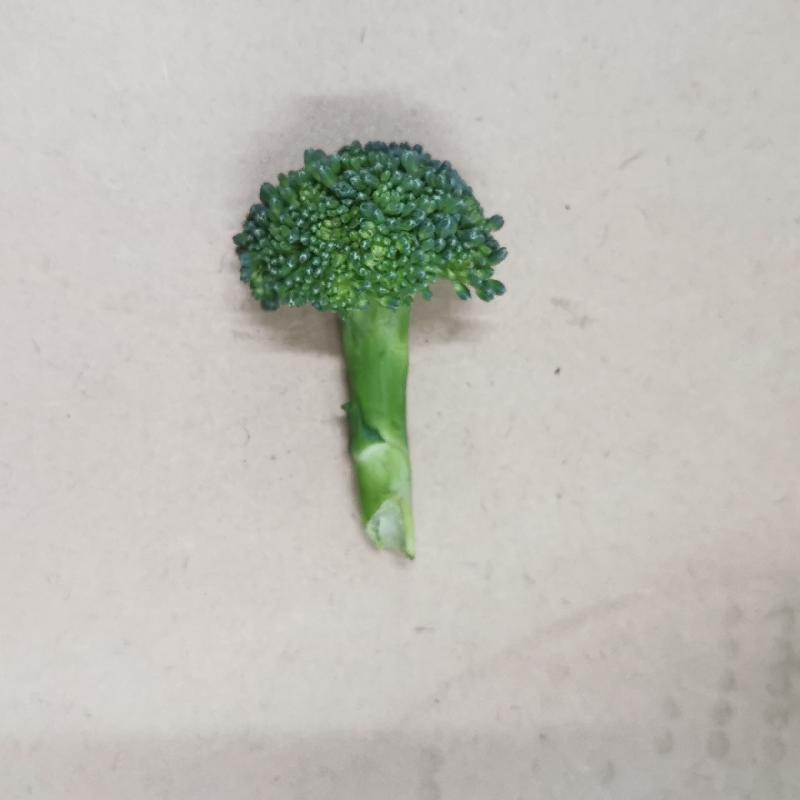broccoli: (224, 131, 511, 579)
